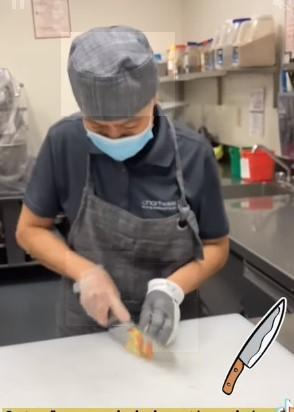apron: (135, 263, 199, 352), (67, 252, 135, 326)
gloves: (62, 32, 176, 116)
mask: (70, 121, 170, 178)
